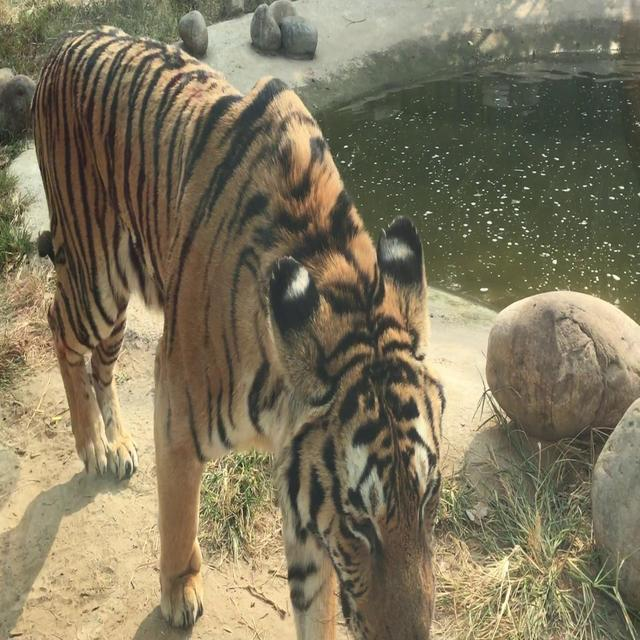tiger: (29, 16, 447, 638)
